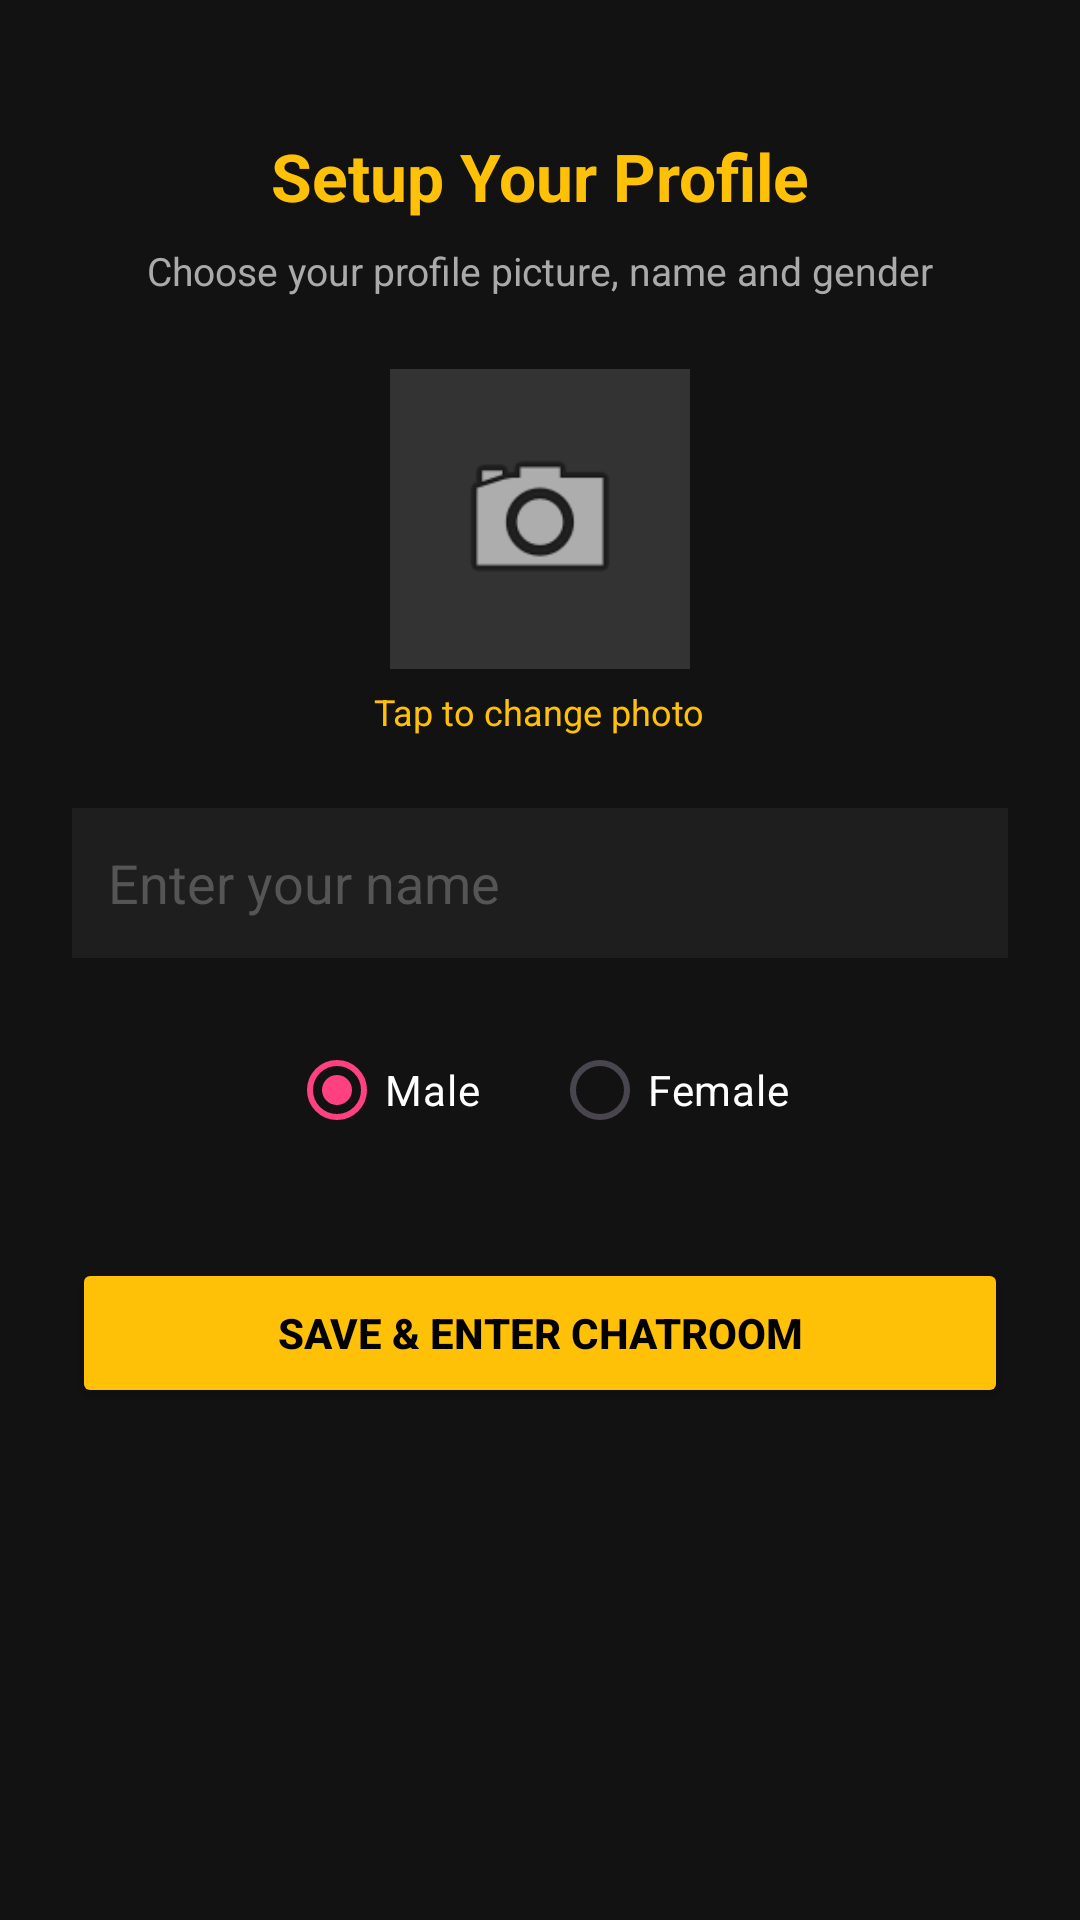

Named icons in this screenshot (1080 x 1920) and their bounding boxes, (x1, y1, x2, y2):
camera: (390, 369, 690, 669)
